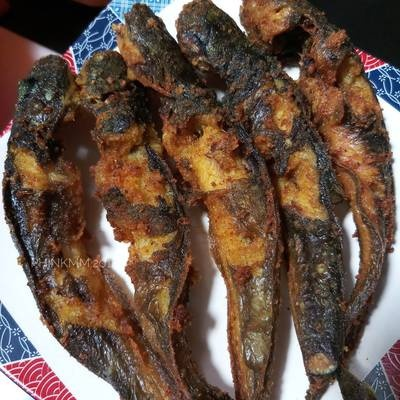pecel_lele: (169, 3, 348, 398), (115, 13, 277, 394), (8, 54, 110, 396)
